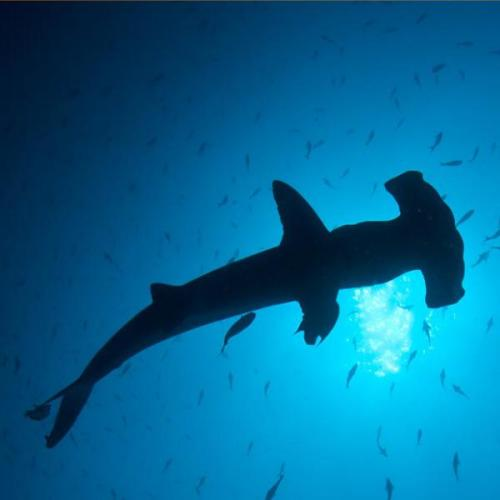shark-endangered: (22, 171, 465, 453)
